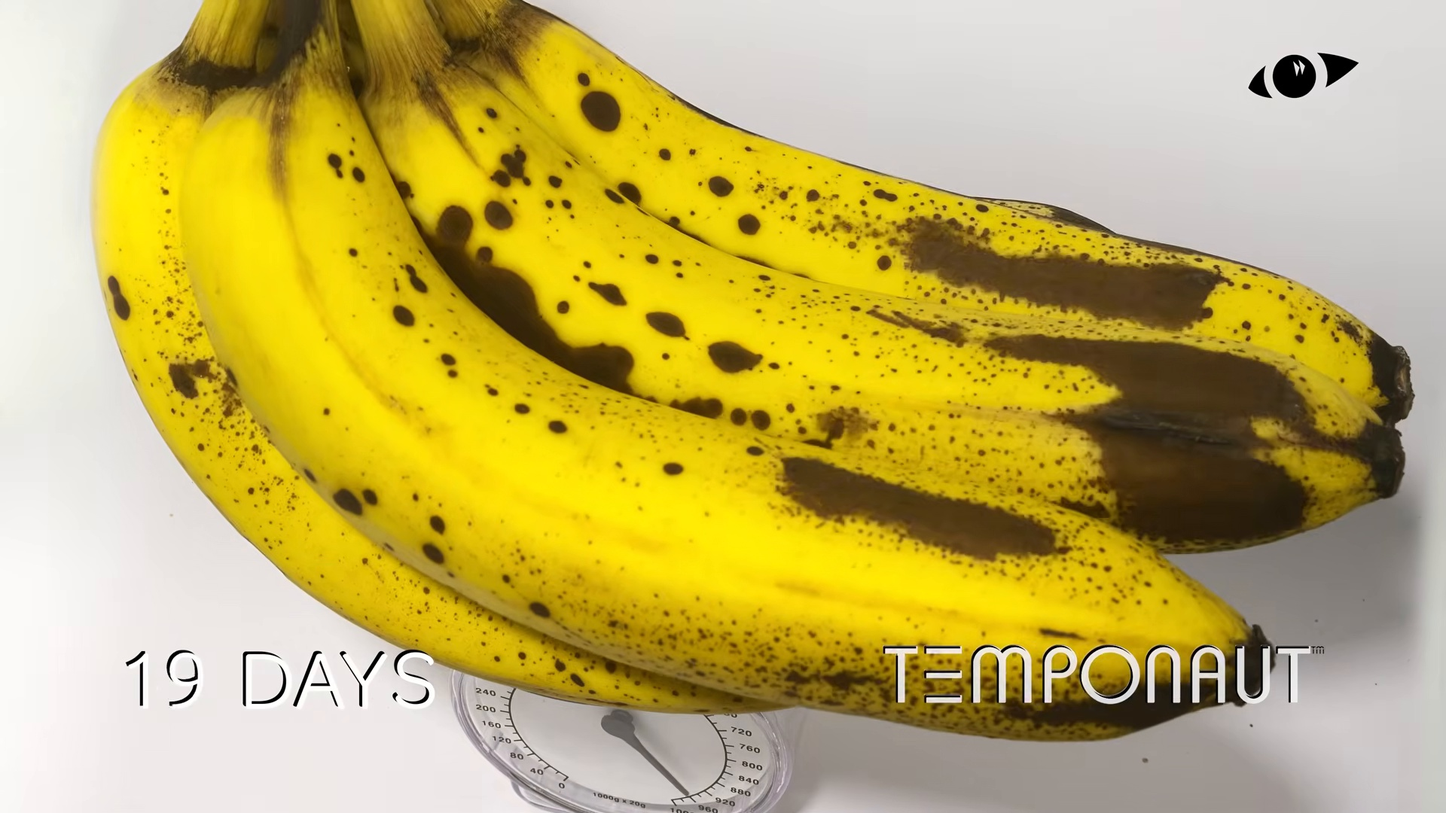banana_rotten: (88, 4, 1414, 744)
